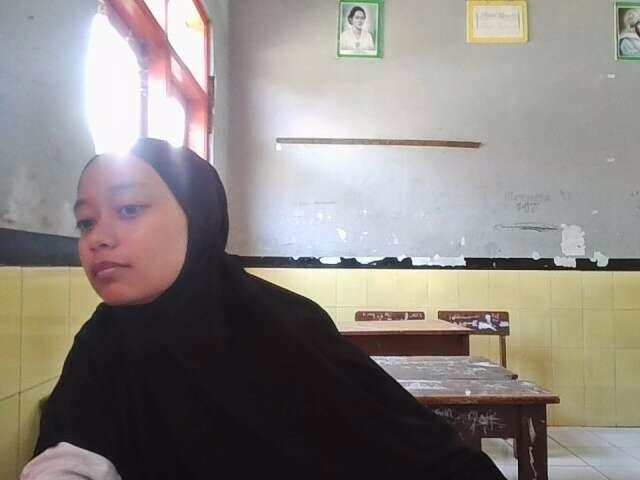cheating: (43, 123, 523, 480)
